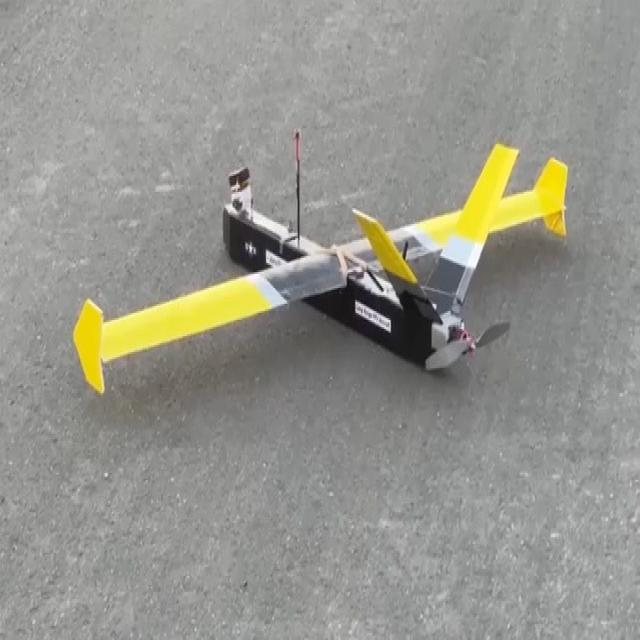drones: (68, 135, 578, 425)
